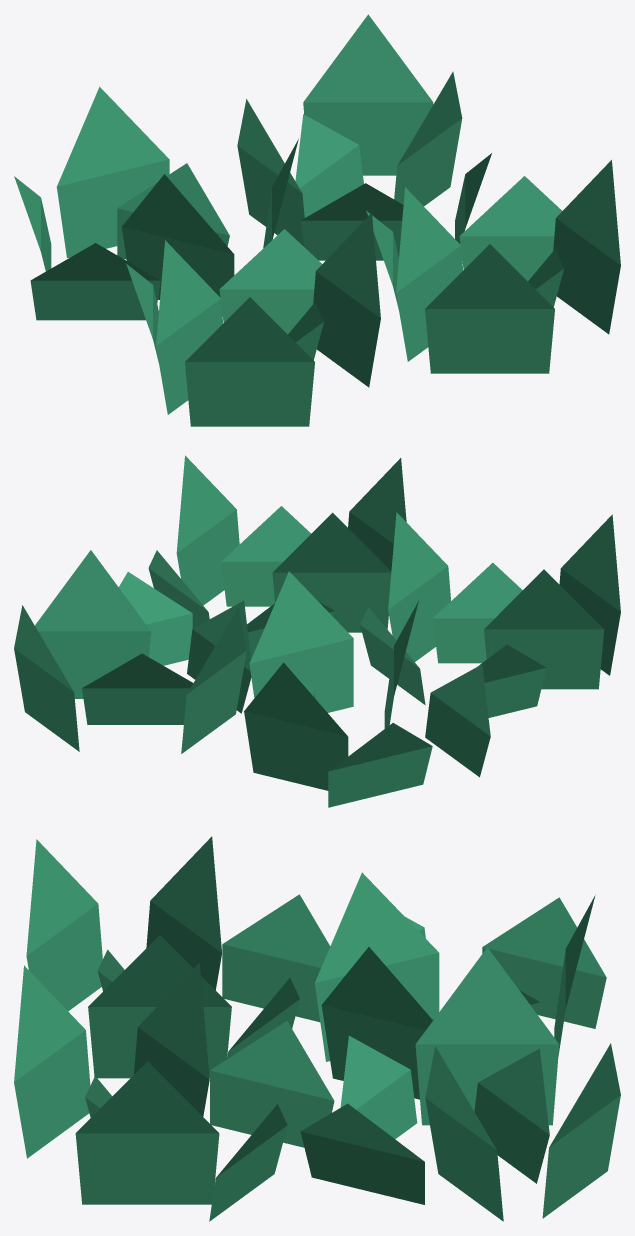
File: grass-large.obj
The picture shows the model from 3 angles, top to bottom: view 1: azimuth 30°, elevation 25°; view 2: azimuth 150°, elevation 25°; view 3: azimuth 270°, elevation 25°; orthographic projection. The views are drawn at different scales.
Bounding box in the file's own units: 0.4759 × 0.1425 × 0.4873.
